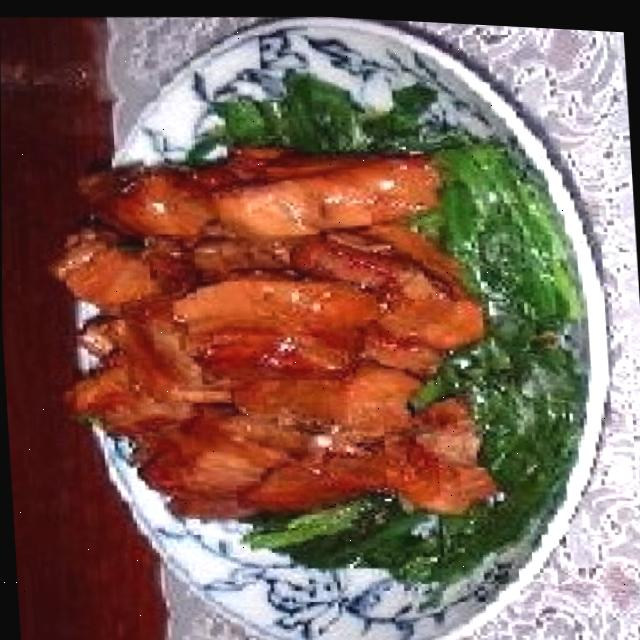猪肉菜式: (37, 109, 505, 551)
